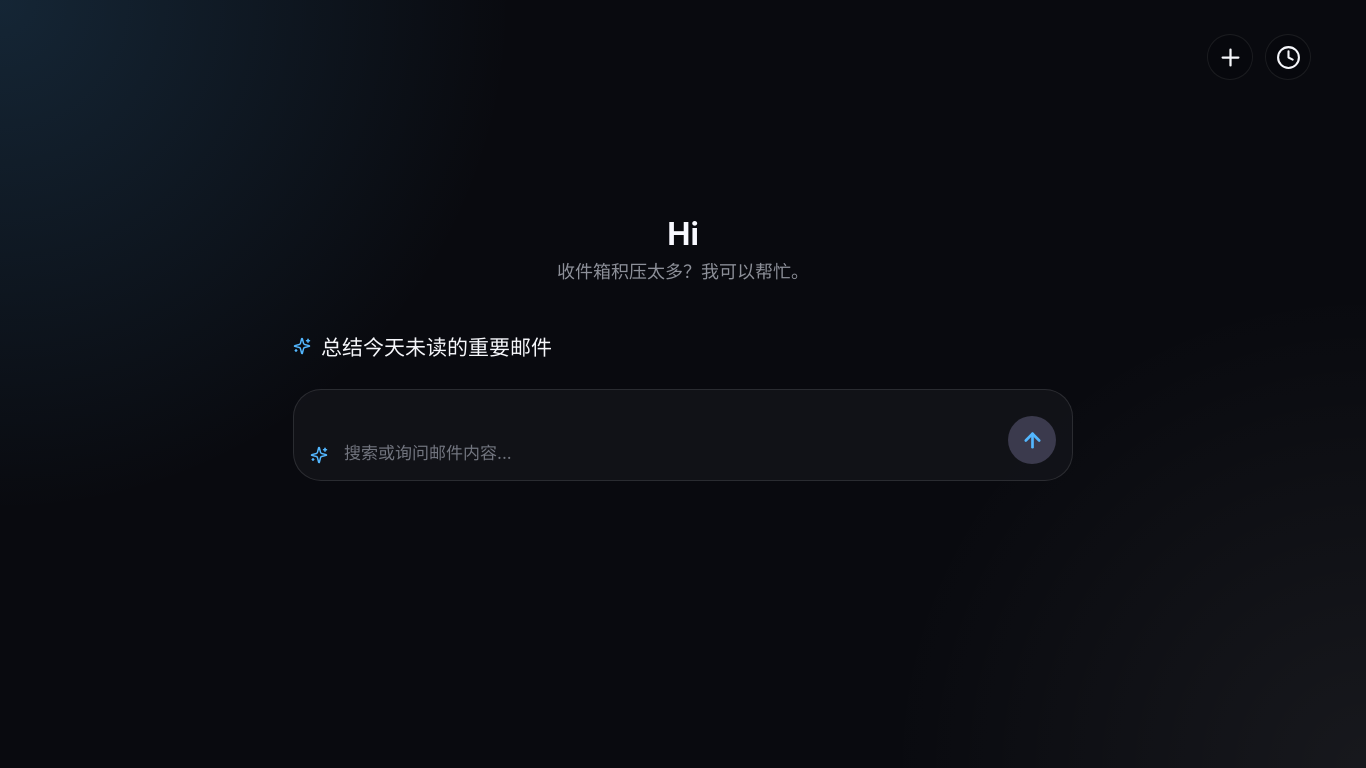
Test case: AiScreen › starts a fresh conversation when the new AI task button is clicked
Type "继续刚才的问题" into the field with placeholder "搜索或询问邮件内容..." at (670, 453), box left=342, top=442, right=998, bottom=464
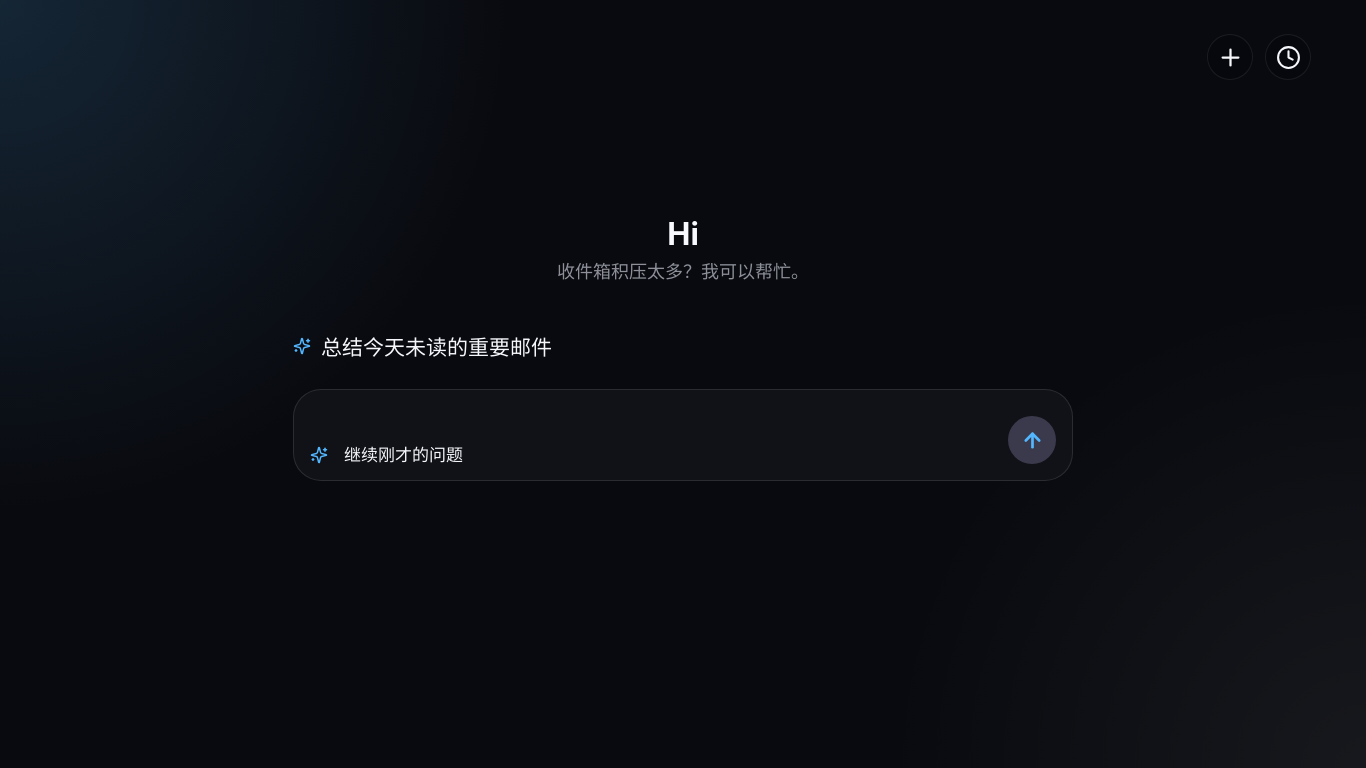
Click the button named "发送" at (1032, 440), box left=1008, top=416, right=1056, bottom=464
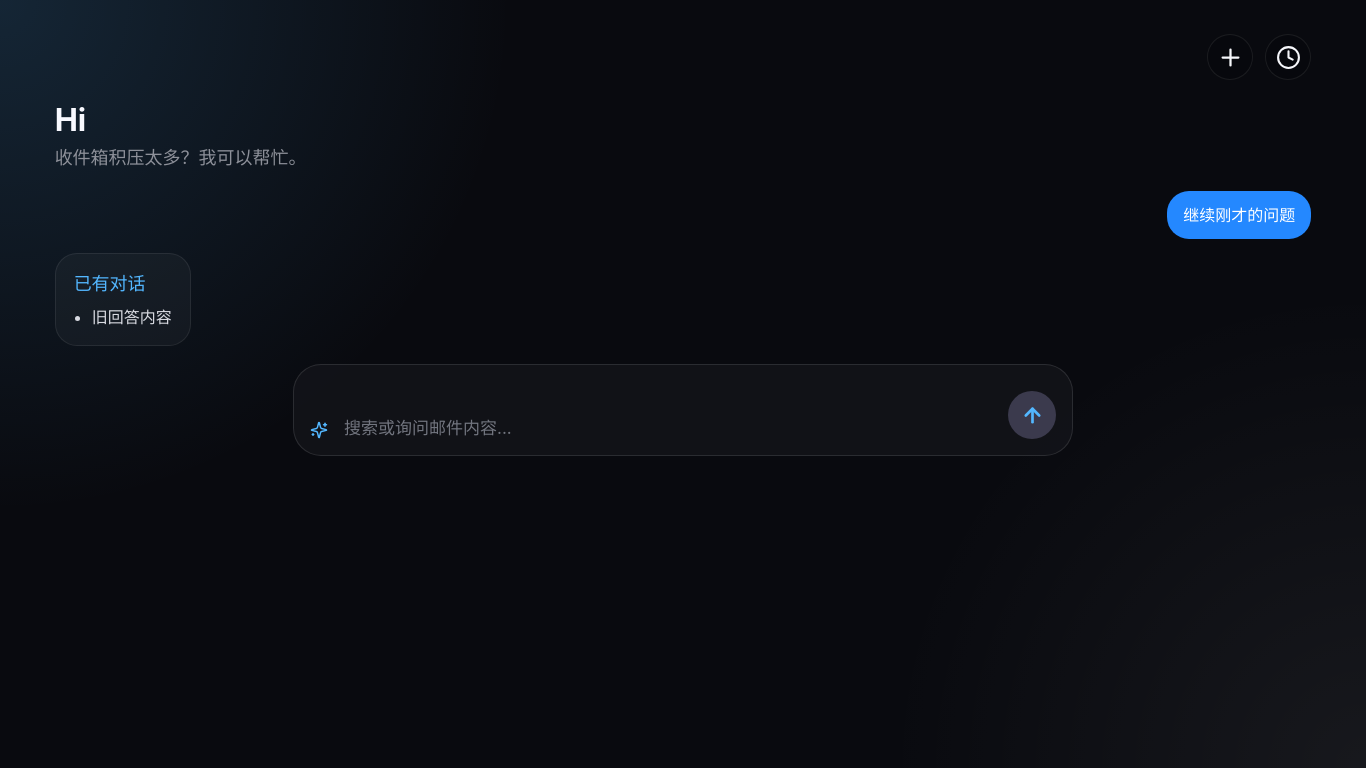
Result: the list item "旧回答内容" is shown at left=92, top=305, right=172, bottom=329
Click the button named "新增 AI 任务" at (1230, 57), box left=1207, top=34, right=1253, bottom=80
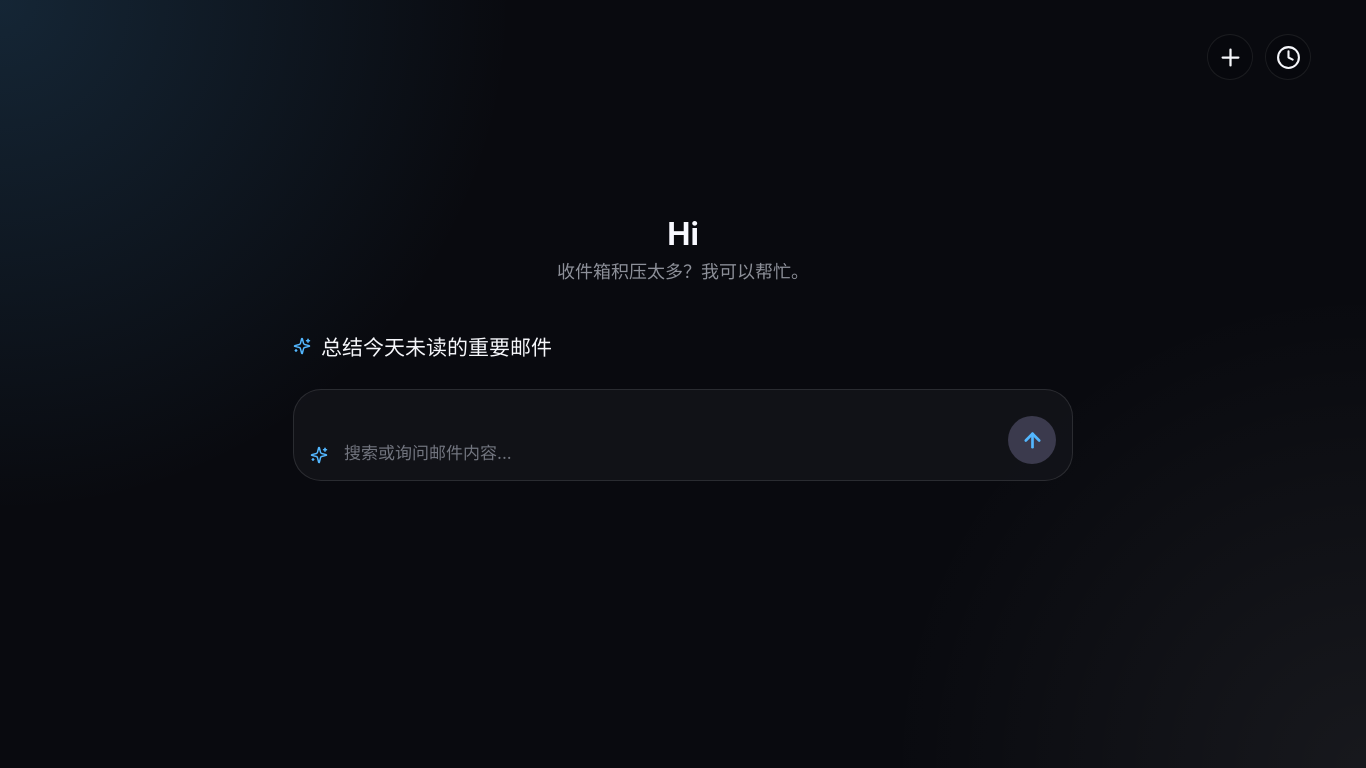
Result: the field with placeholder "搜索或询问邮件内容..." is empty at left=342, top=442, right=998, bottom=464
Result: the list item "旧回答内容" is gone
Result: the text "继续刚才的问题" is gone
